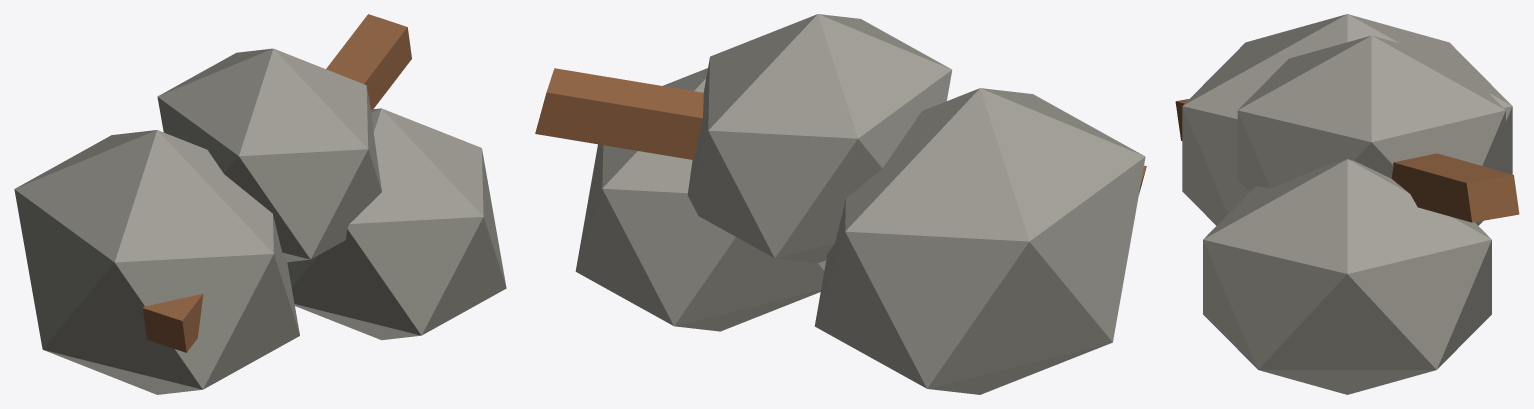
Rendered from desabamento.glb.
The picture shows the model from 3 angles, left to right: view 1: azimuth 30°, elevation 25°; view 2: azimuth 150°, elevation 25°; view 3: azimuth 270°, elevation 25°; orthographic projection. The views are drawn at different scales.
Parts seen in each view (by area): view 1: desabamento; view 2: desabamento; view 3: desabamento.
Part boxes in pixels (x1,y1,x2,y2): desabamento: (14,14,506,394); desabamento: (535,14,1146,394); desabamento: (1175,14,1519,394).
Bounding box in the file's own units: 3 × 2 × 2.
